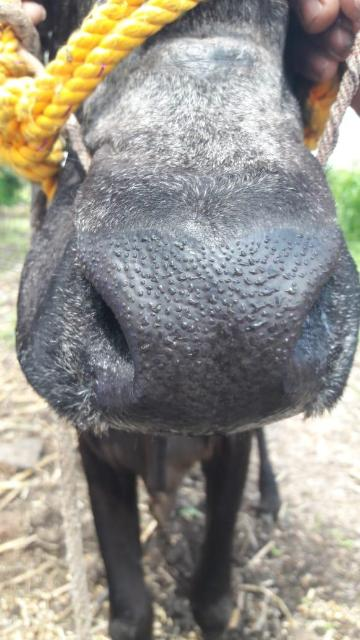Muzzle: (64, 217, 325, 413)
